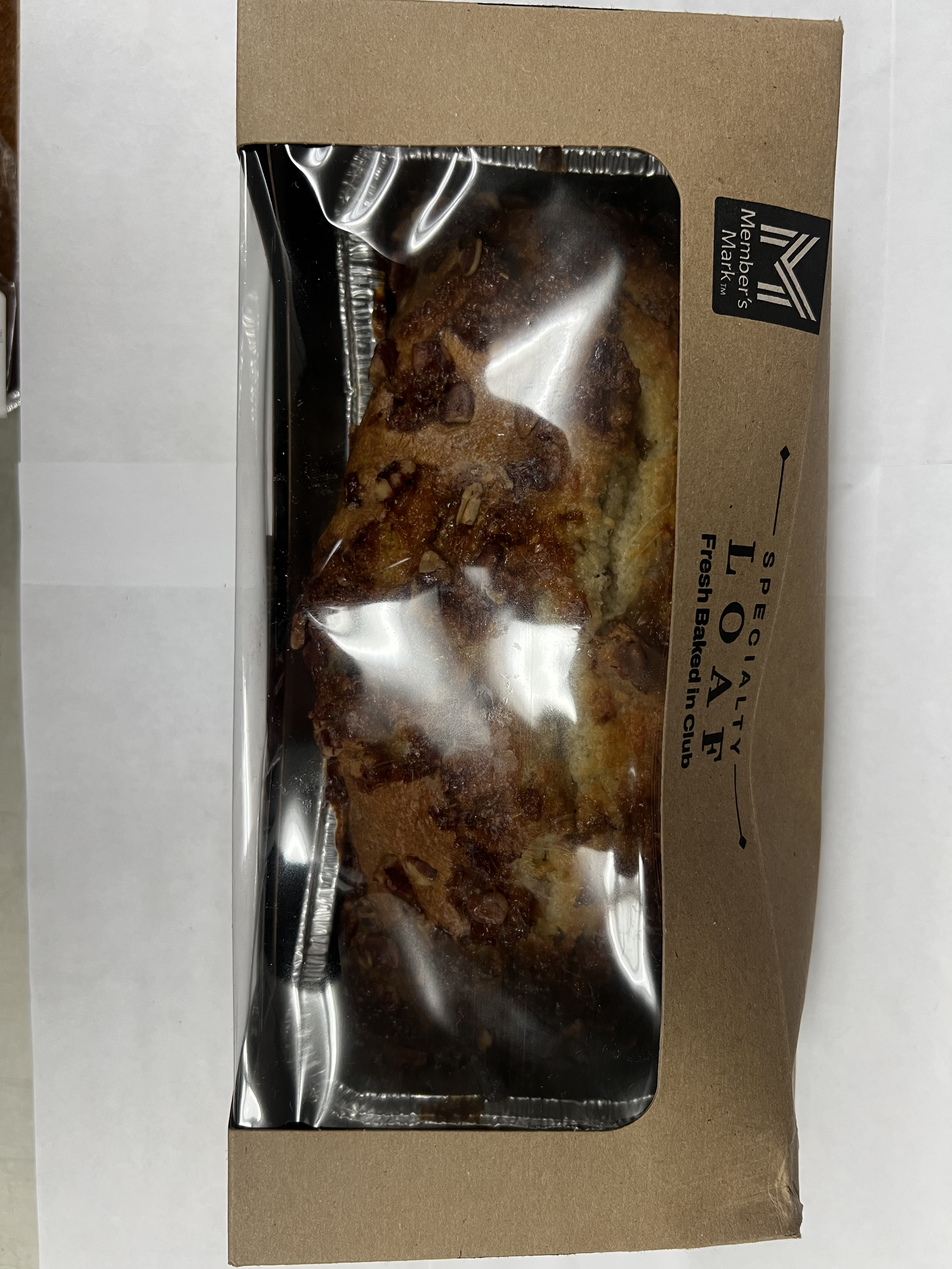bakery: (232, 35, 848, 1266)
